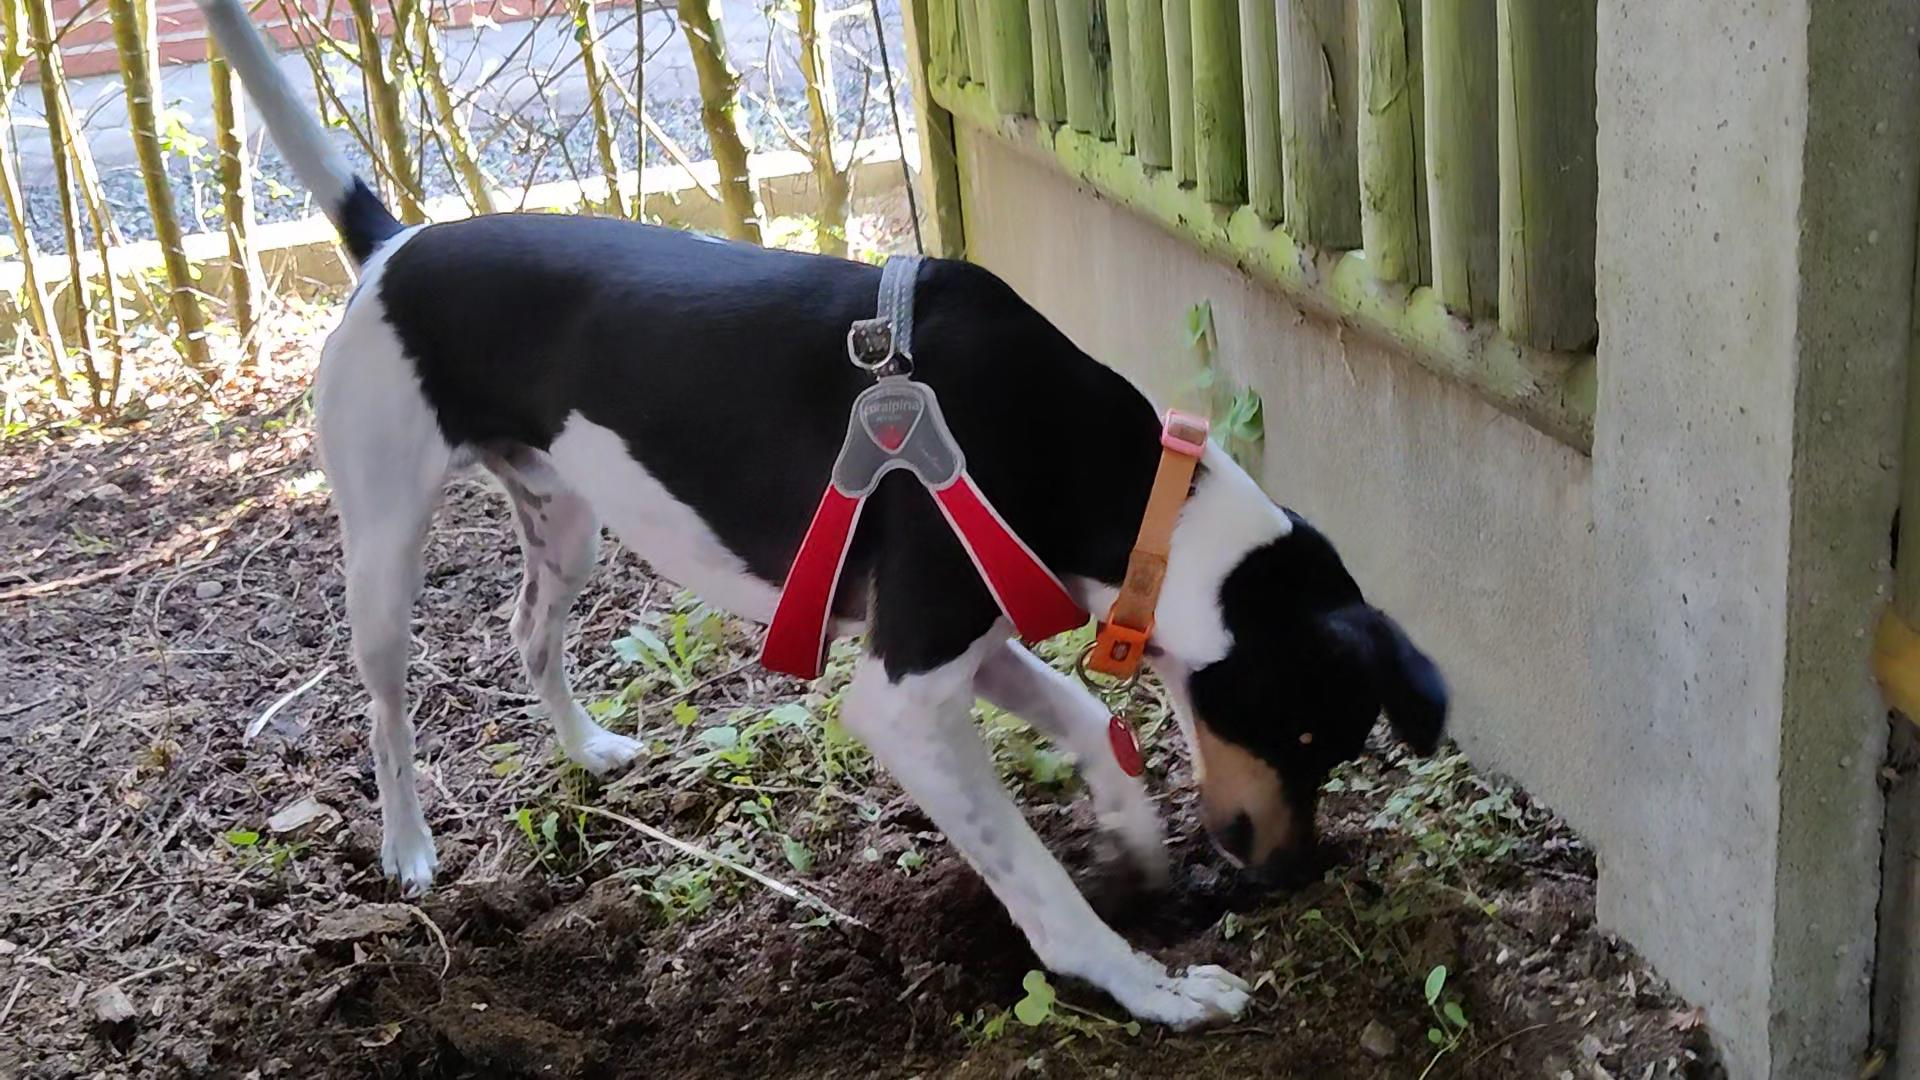Dog: (173, 0, 1466, 1042)
